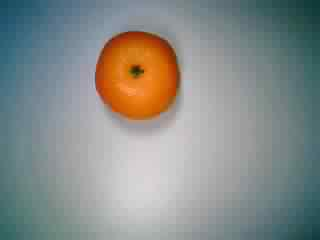orange: (88, 25, 186, 123)
